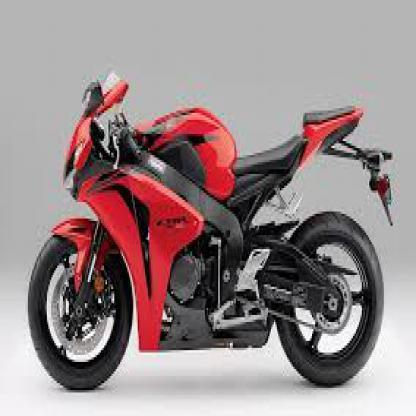Motorcycle: (23, 63, 399, 391)
